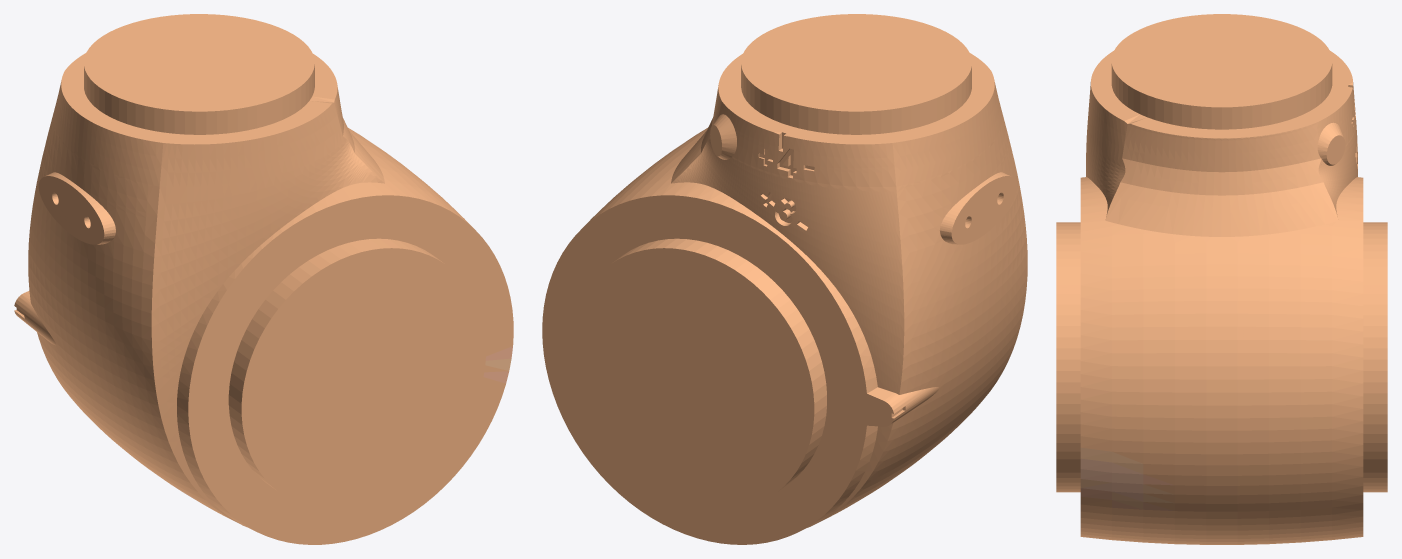
Rendered from KukaKR4Link3.dae.
3 views of the same model, side by side, from view 1: azimuth 30°, elevation 25°; view 2: azimuth 150°, elevation 25°; view 3: azimuth 270°, elevation 25° (orthographic). The views are drawn at different scales.
Parts seen in each view (by area): view 1: KR4Link3; view 2: KR4Link3; view 3: KR4Link3.
Boxes of the visible parts, bbox=[...] form: KR4Link3: bbox=[14, 14, 513, 544]; KR4Link3: bbox=[542, 14, 1027, 544]; KR4Link3: bbox=[1056, 14, 1387, 544].
Size of the model in its own units: 0.0845 by 0.0675 by 0.0967.
